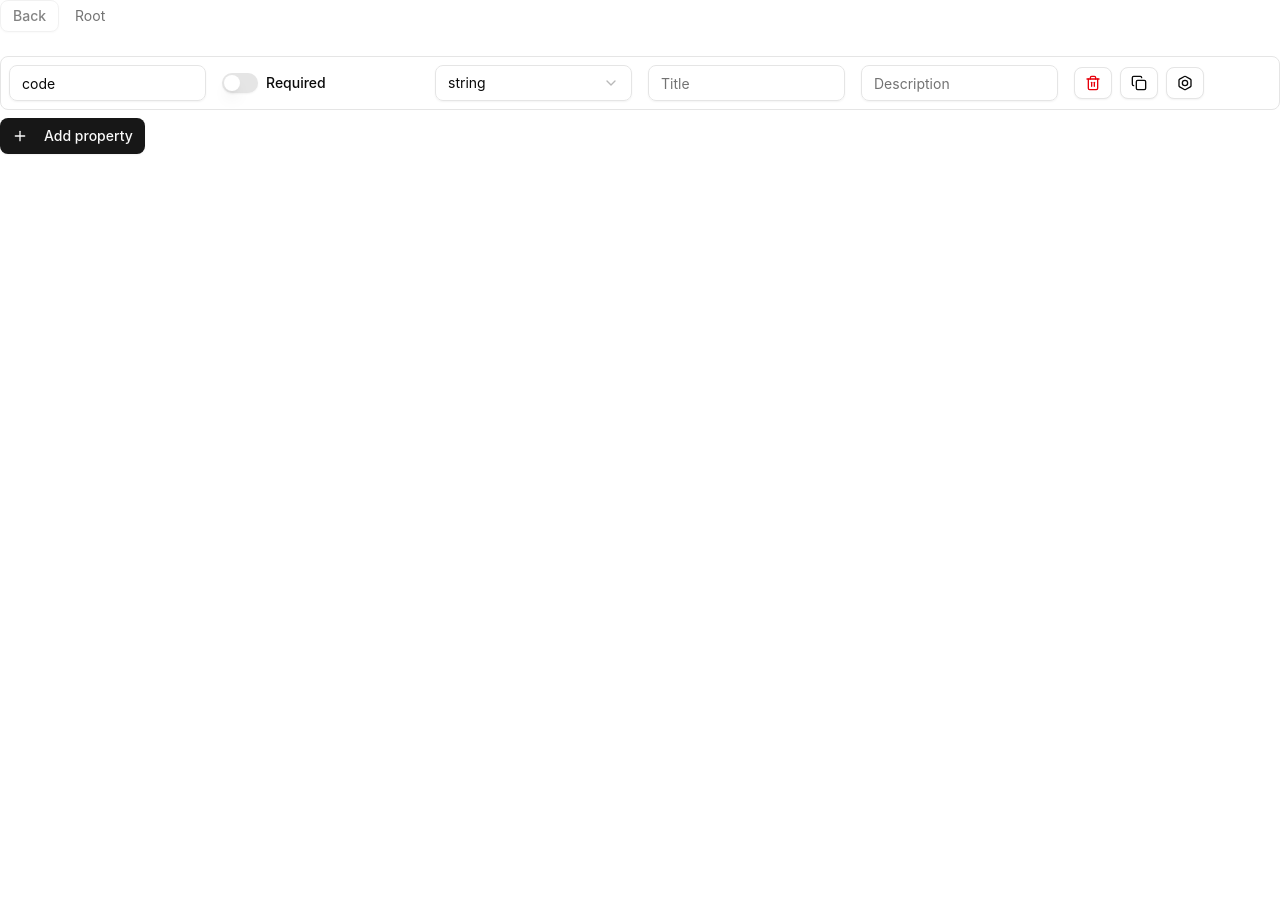
Test: Edit dialog lifecycle › saves the Edit dialog for a property whose title is missing
The width and height of the screenshot is (1280, 900).
Click the button named "Edit constraints" at (1185, 83), box [1166,67,1204,99]
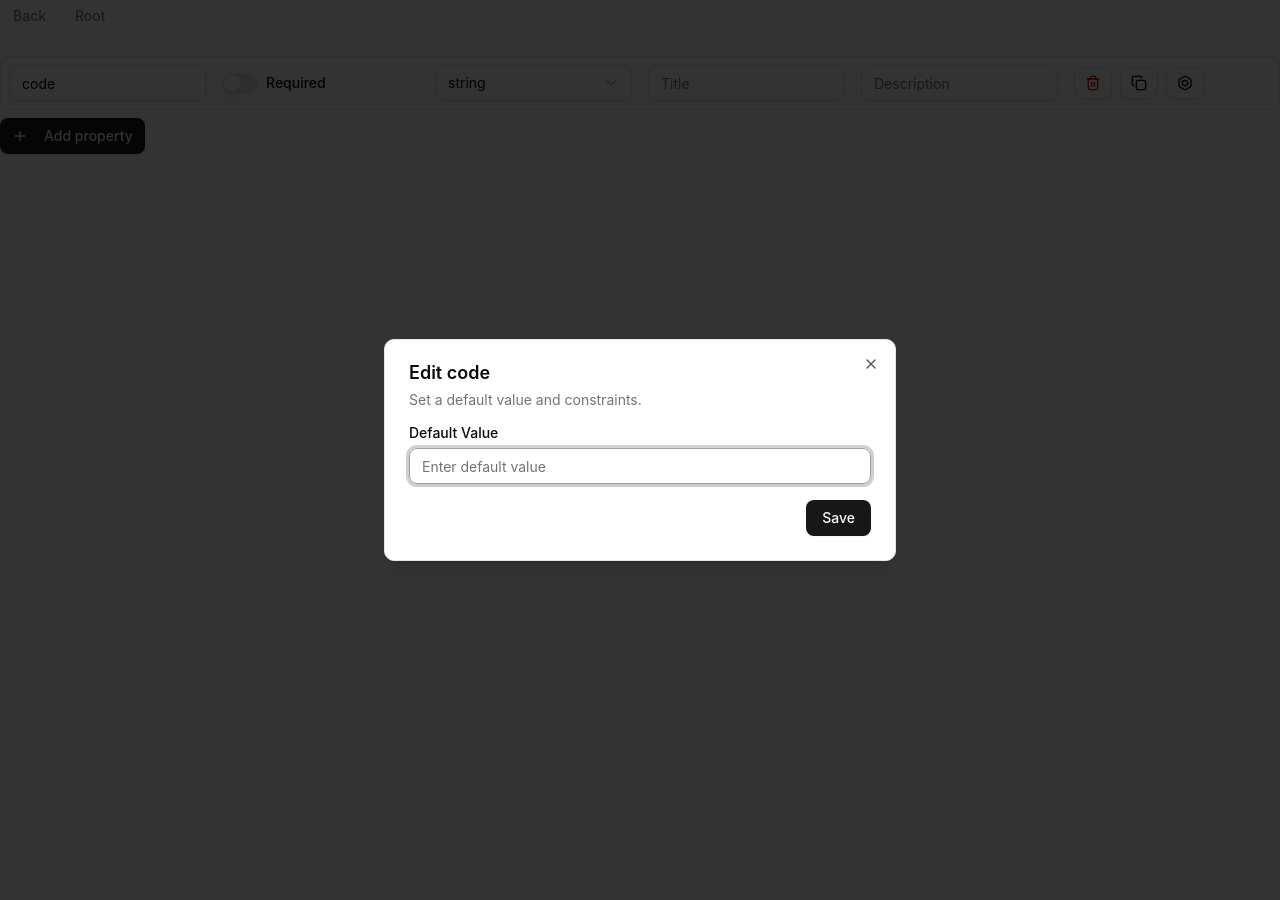
Type "x" into the field labelled "Default Value" at (640, 466), box [409,448,871,484]
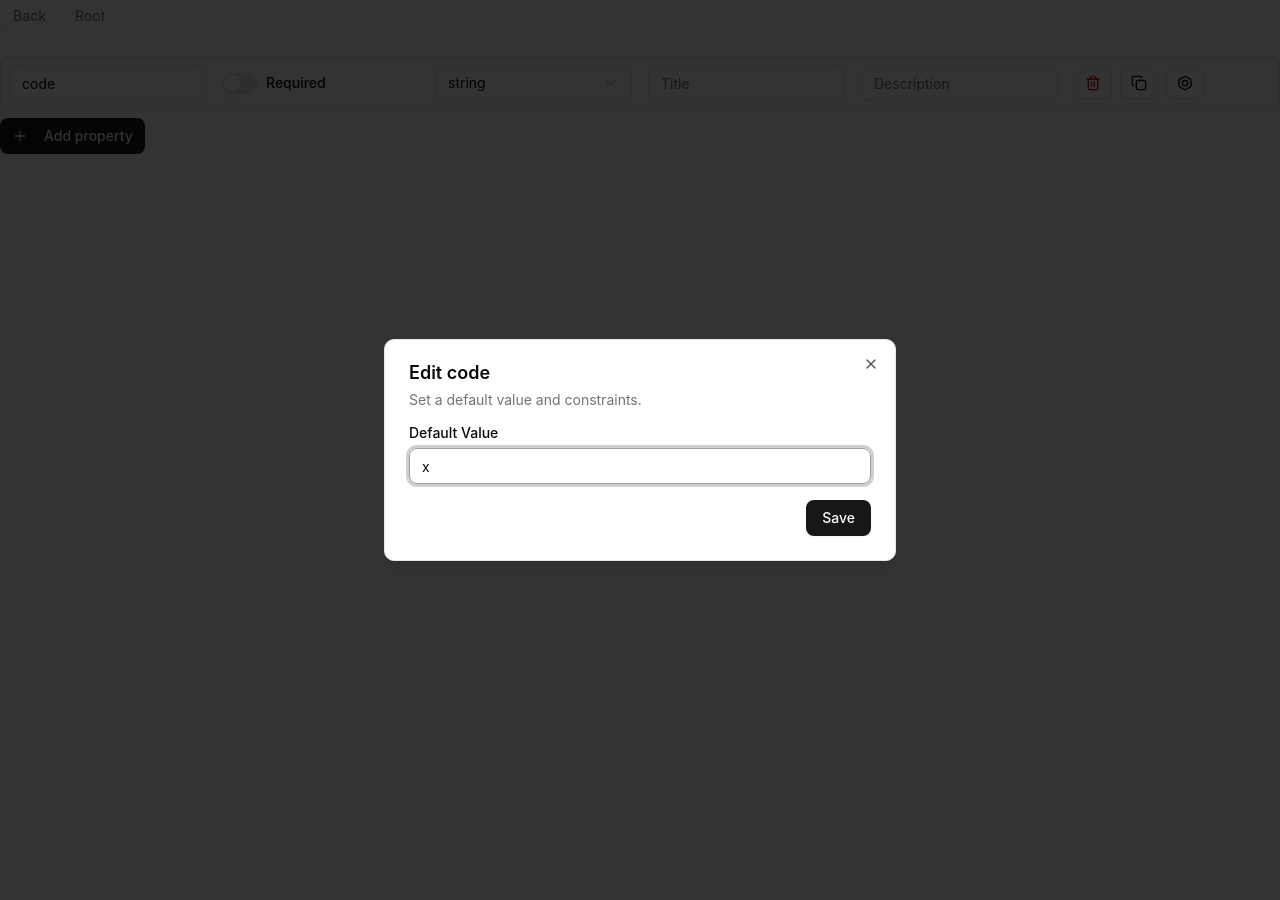
Click the button "Save" at (839, 518), box [806,500,871,536]
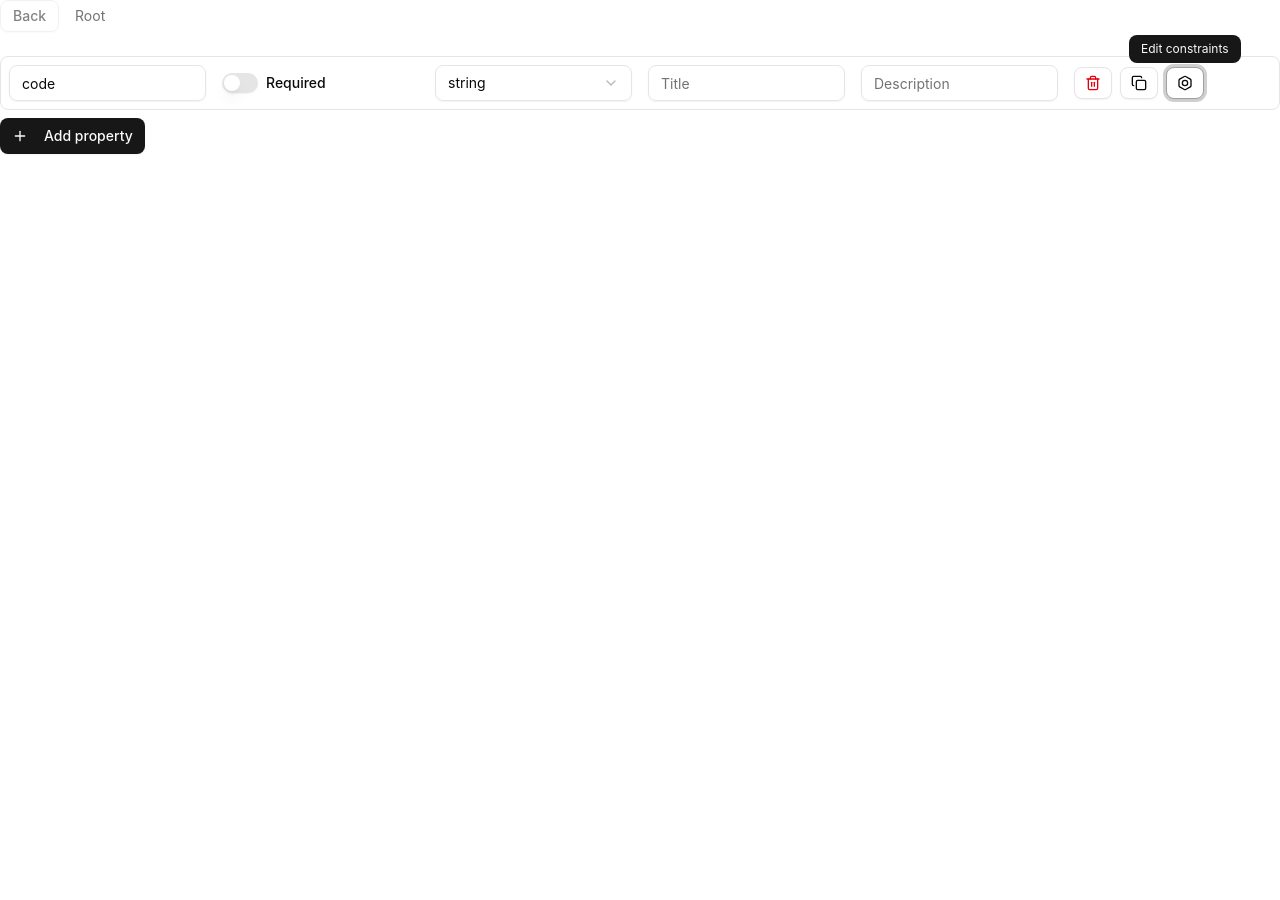
Expected: the dialog is gone
